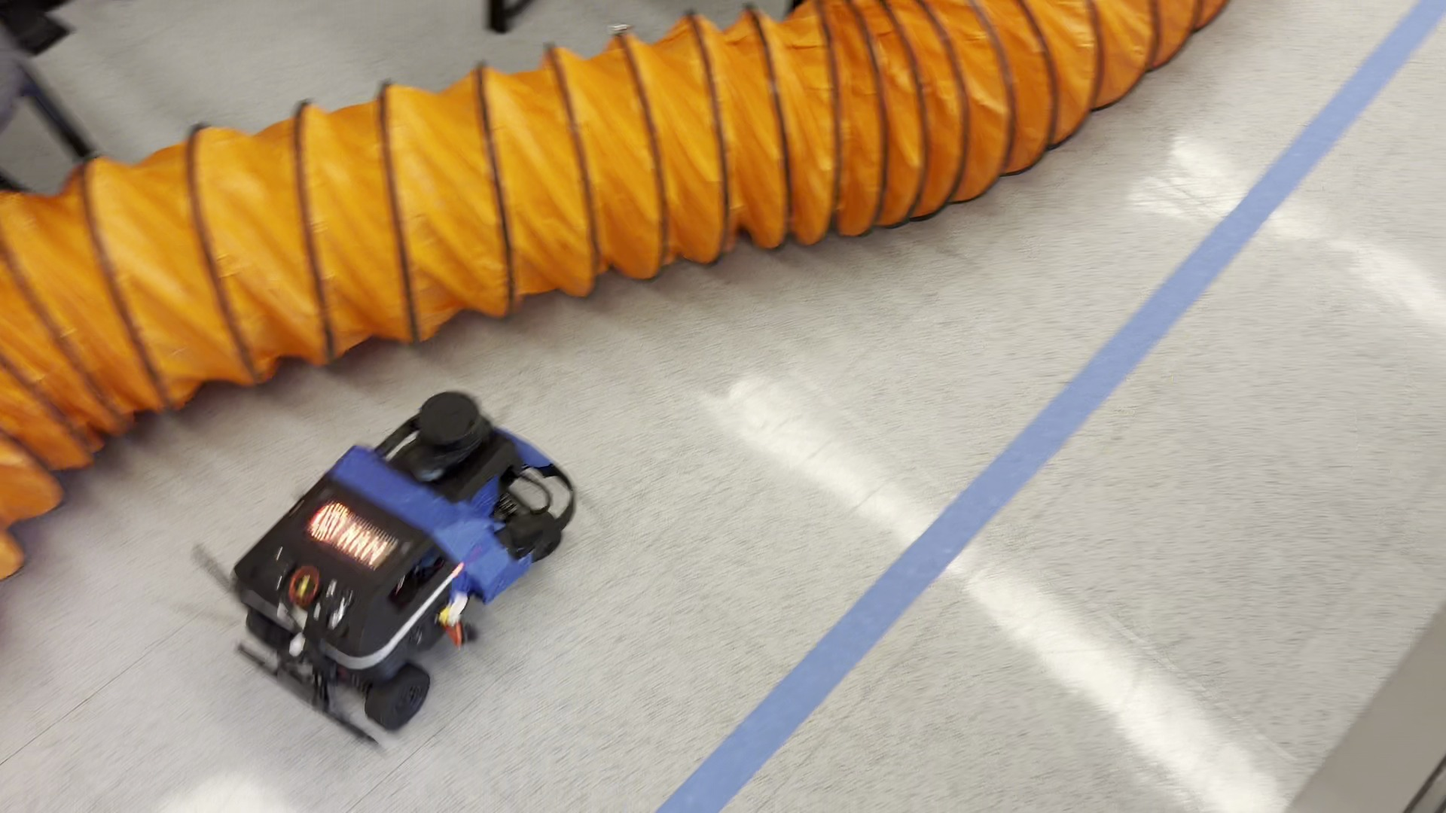racecar: (223, 388, 577, 741)
